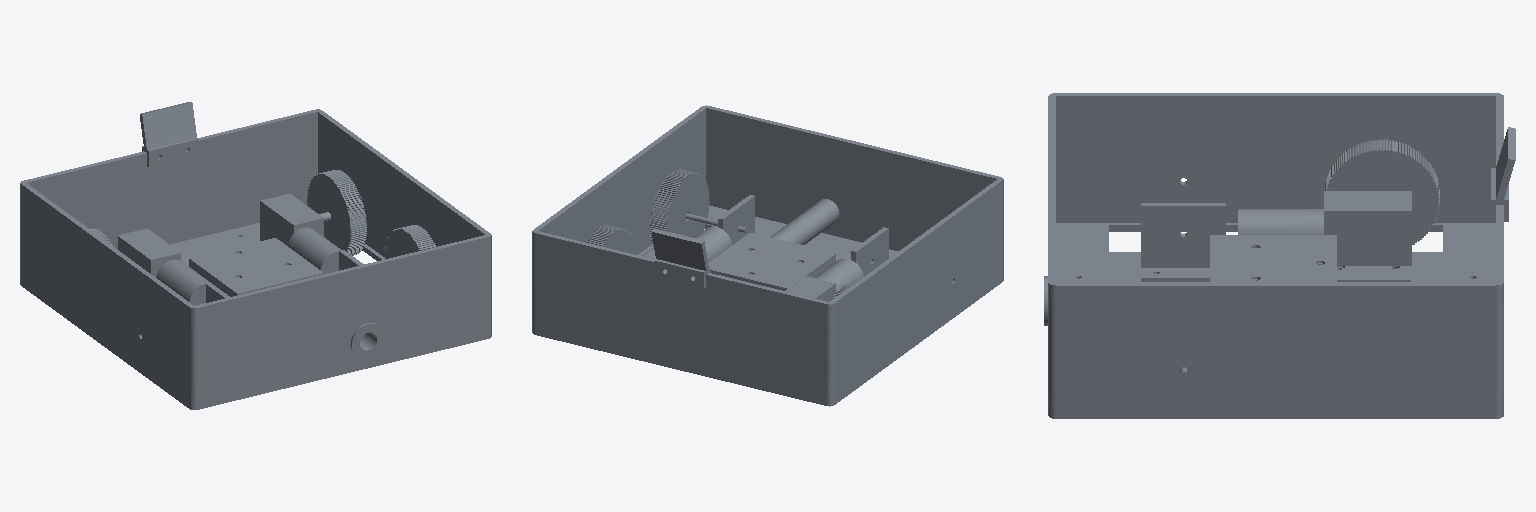
URDF robot description (window_cleaner_robot):
<?xml version="1.0"?>
<robot name="window_cleaner_robot">
  <!--
    Visual mesh source: jagosipda.stl.
    STL bounds are approximately 307 x 310 x 138 mm, so Gazebo uses scale 0.001.
    Robot footprint is modeled as 30 x 30 cm; collision starts as a simple box for stable simulation.
  -->
  <link name="base_link">
    <inertial>
      <origin xyz="0 0 0" rpy="0 0 0"/>
      <mass value="2.0"/>
      <inertia ixx="0.025" ixy="0.0" ixz="0.0" iyy="0.025" iyz="0.0" izz="0.035"/>
    </inertial>

    <visual name="body_visual">
      <origin xyz="-0.003512 -0.002591 -0.061886" rpy="0 0 0"/>
      <geometry>
        <mesh filename="package://window_cleaner/meshes/jagosipda.stl" scale="0.001 0.001 0.001"/>
      </geometry>
      <material name="body_gray">
        <color rgba="0.55 0.58 0.62 1.0"/>
      </material>
    </visual>

    <collision name="body_collision">
      <origin xyz="0 0 0" rpy="0 0 0"/>
      <geometry>
        <box size="0.30 0.30 0.14"/>
      </geometry>
    </collision>
  </link>

  <gazebo reference="base_link">
    <material>Gazebo/Grey</material>
    <mu1>1.0</mu1>
    <mu2>1.0</mu2>
  </gazebo>
</robot>

--- What the picture shows (computed from the rendered views, not written in the file) ---
Views: 3 orthographic renders of the robot side by side, from view 1: azimuth 30°, elevation 25°; view 2: azimuth 150°, elevation 25°; view 3: azimuth 270°, elevation 25°.
Robot: window_cleaner_robot — 1 links, 0 joints (none); root link base_link; default pose: all joints at 0.
Visible links, largest first — view 1: base_link; view 2: base_link; view 3: base_link.
Boxes of the visible links, bbox=[...] form: base_link: bbox=[20, 102, 491, 409]; base_link: bbox=[532, 105, 1003, 406]; base_link: bbox=[1044, 93, 1515, 418].
Bounding box of the posed robot: 0.307 × 0.3103 × 0.1378 m (x, y, z).
1 mesh visuals loaded from 1 distinct referenced files (1 binary STL).
